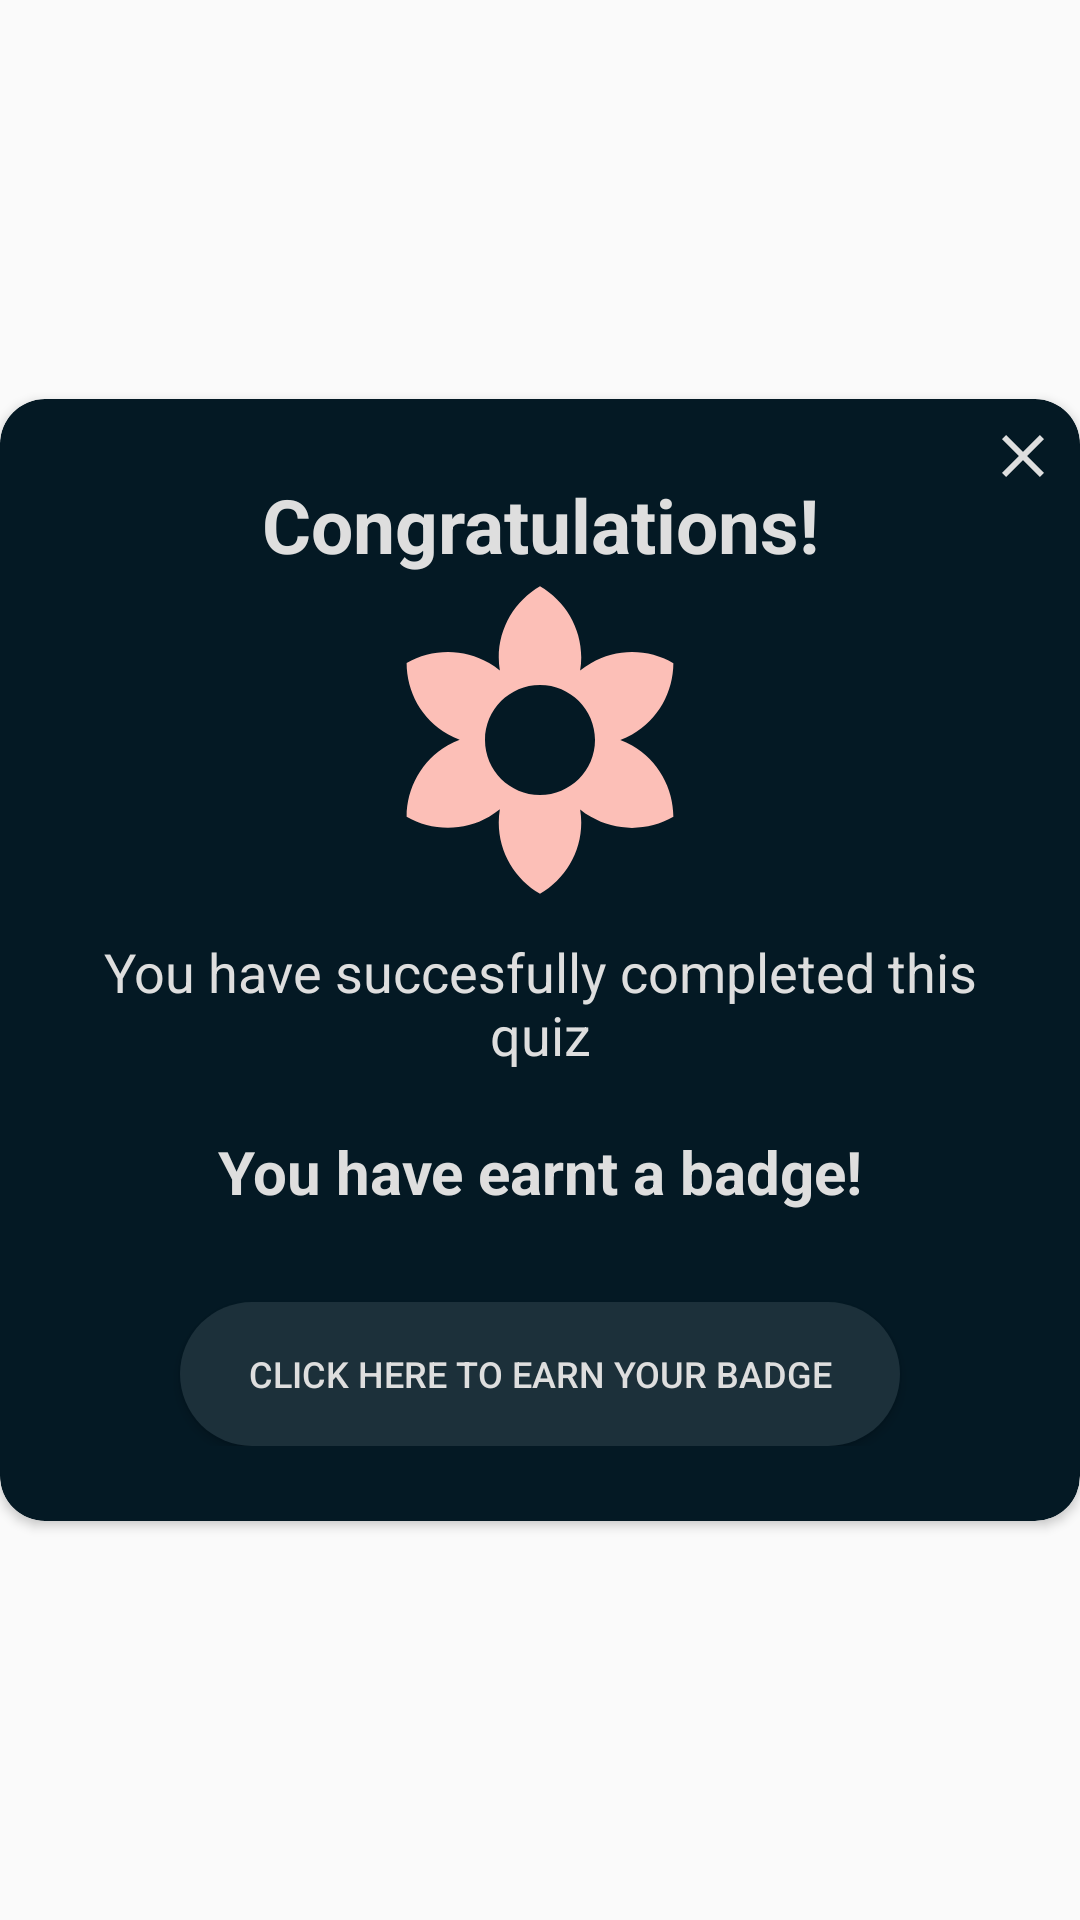

Screen size 1080px x 1920px. Icon name, then its box in pixels as rect(x1, y1, x2, y2):
close: rect(1002, 435, 1044, 477)
filter vintage: rect(406, 586, 674, 894)
